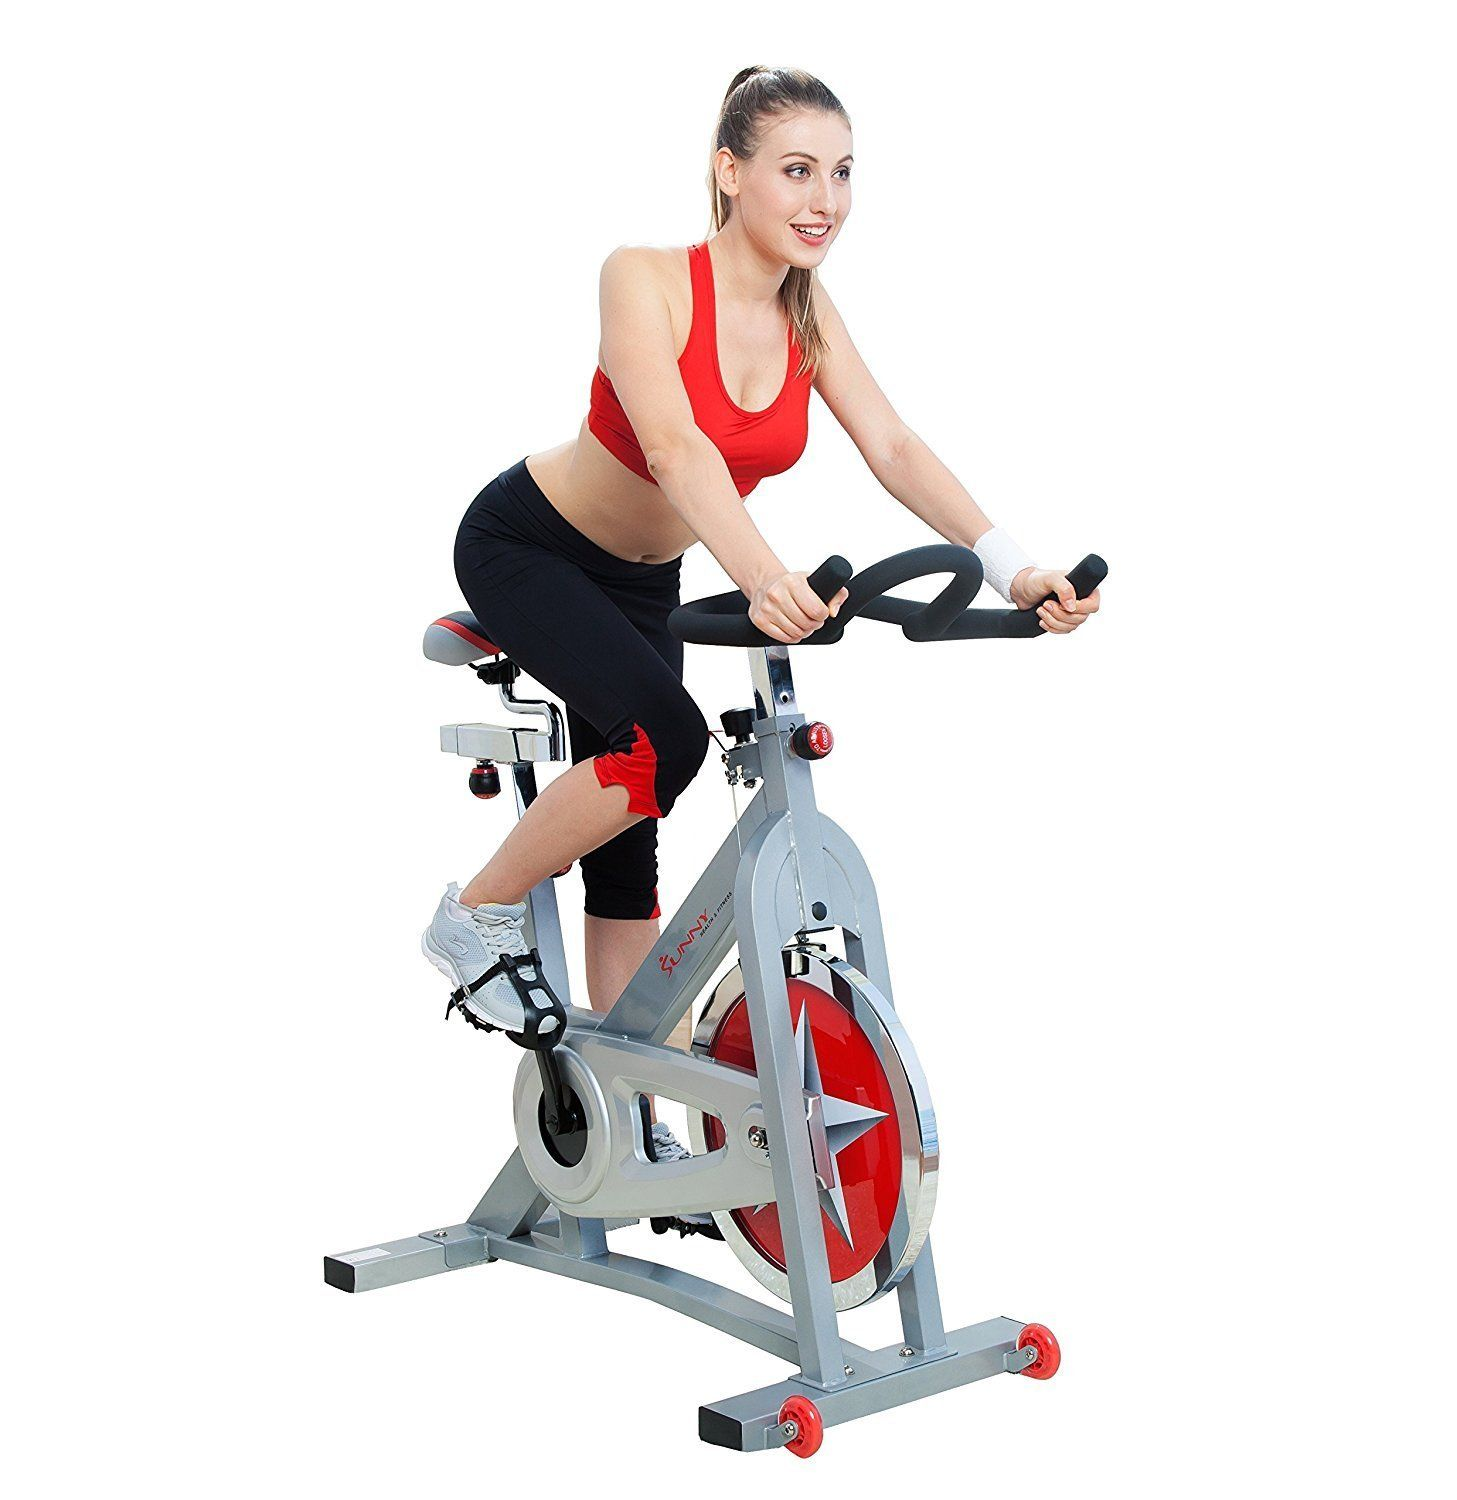gym_bike: (335, 562, 1103, 1460)
